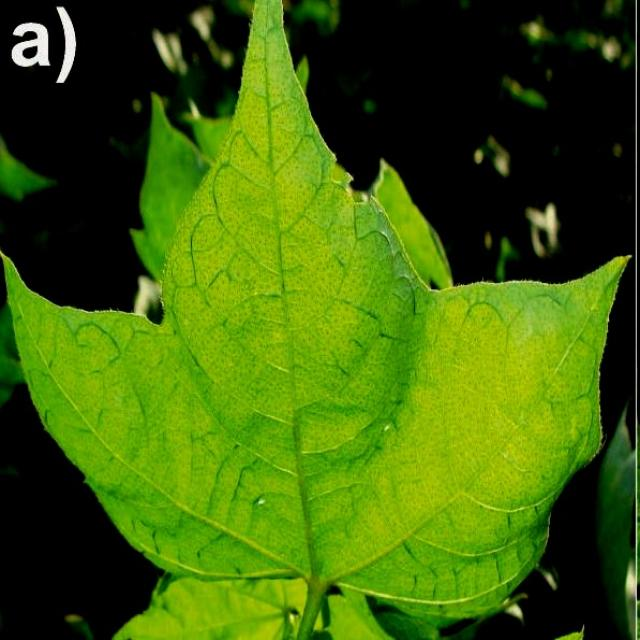Leaf Curl Virus: (196, 186, 438, 590)
